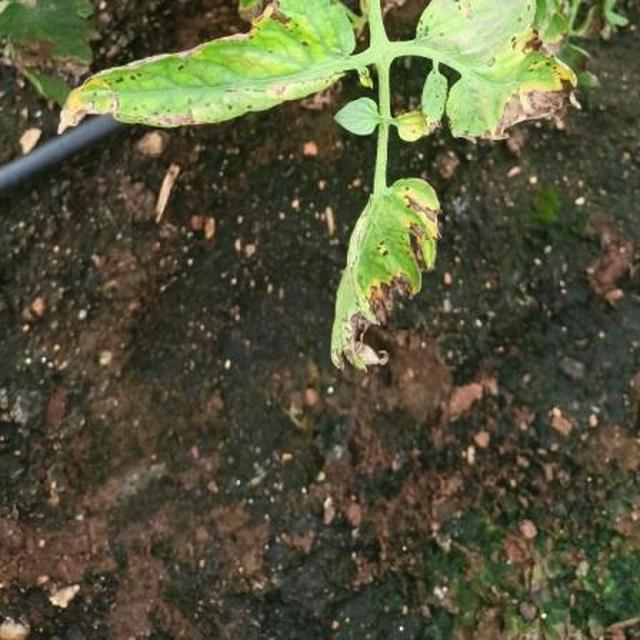Early Blight Leaf: (183, 94, 640, 393)
